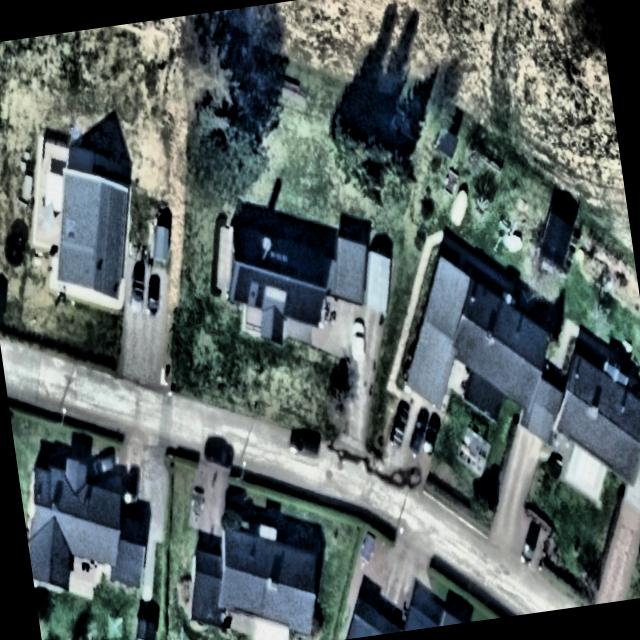roof_pv: (280, 276, 328, 332), (227, 258, 254, 302), (250, 264, 286, 288), (253, 280, 268, 312)
